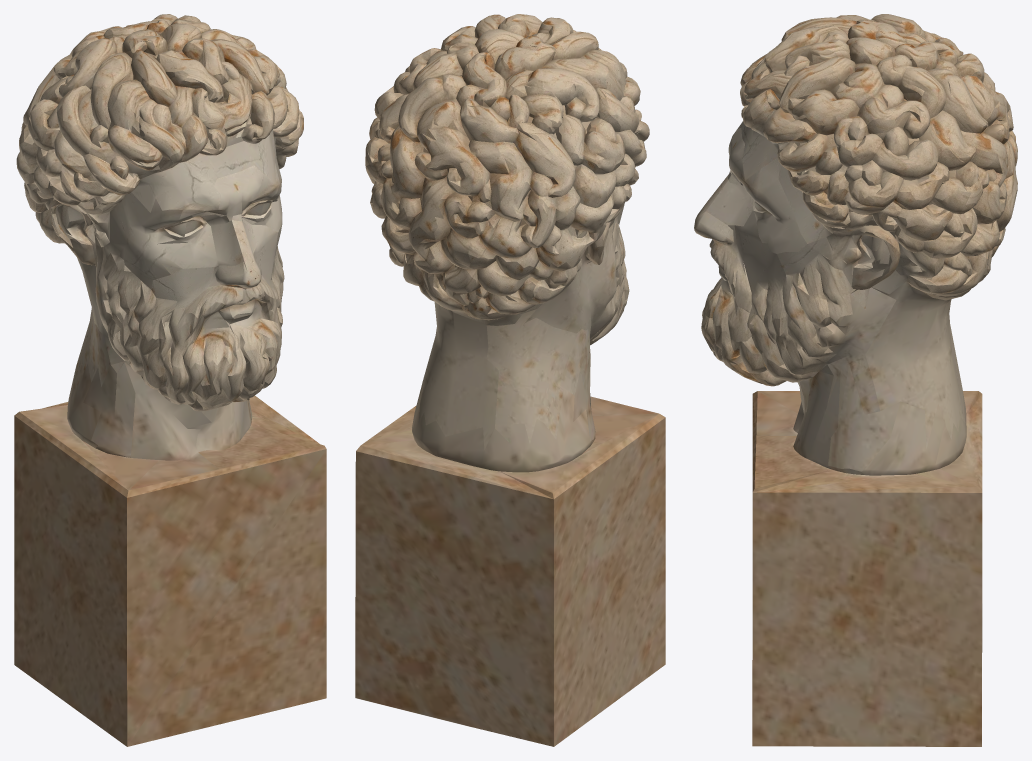
The model's file is herm-bust.glb.
3 renders of one model, left to right at view 1: azimuth 30°, elevation 25°; view 2: azimuth 150°, elevation 25°; view 3: azimuth 270°, elevation 25°, orthographic. The views are drawn at different scales.
Visible parts, largest first — view 1: herm-bust; view 2: herm-bust; view 3: herm-bust.
Boxes of the visible parts, left/top/right/bottom form: herm-bust: left=14, top=14, right=326, bottom=746; herm-bust: left=355, top=14, right=665, bottom=746; herm-bust: left=694, top=14, right=1017, bottom=746.
Bounding box in the file's own units: 0.2771 × 0.7 × 0.3095.
1 material, 1 textured.
